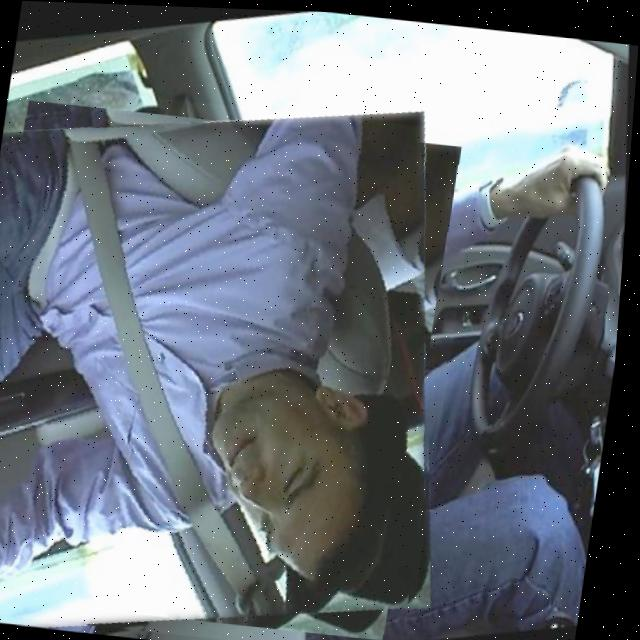seatbelt: (0, 81, 486, 640)
